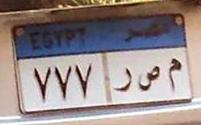7: (75, 61, 94, 97), (54, 62, 71, 98), (33, 65, 51, 99)
meem: (165, 54, 184, 94)
raa: (113, 62, 133, 95)
saad: (135, 59, 162, 94)
